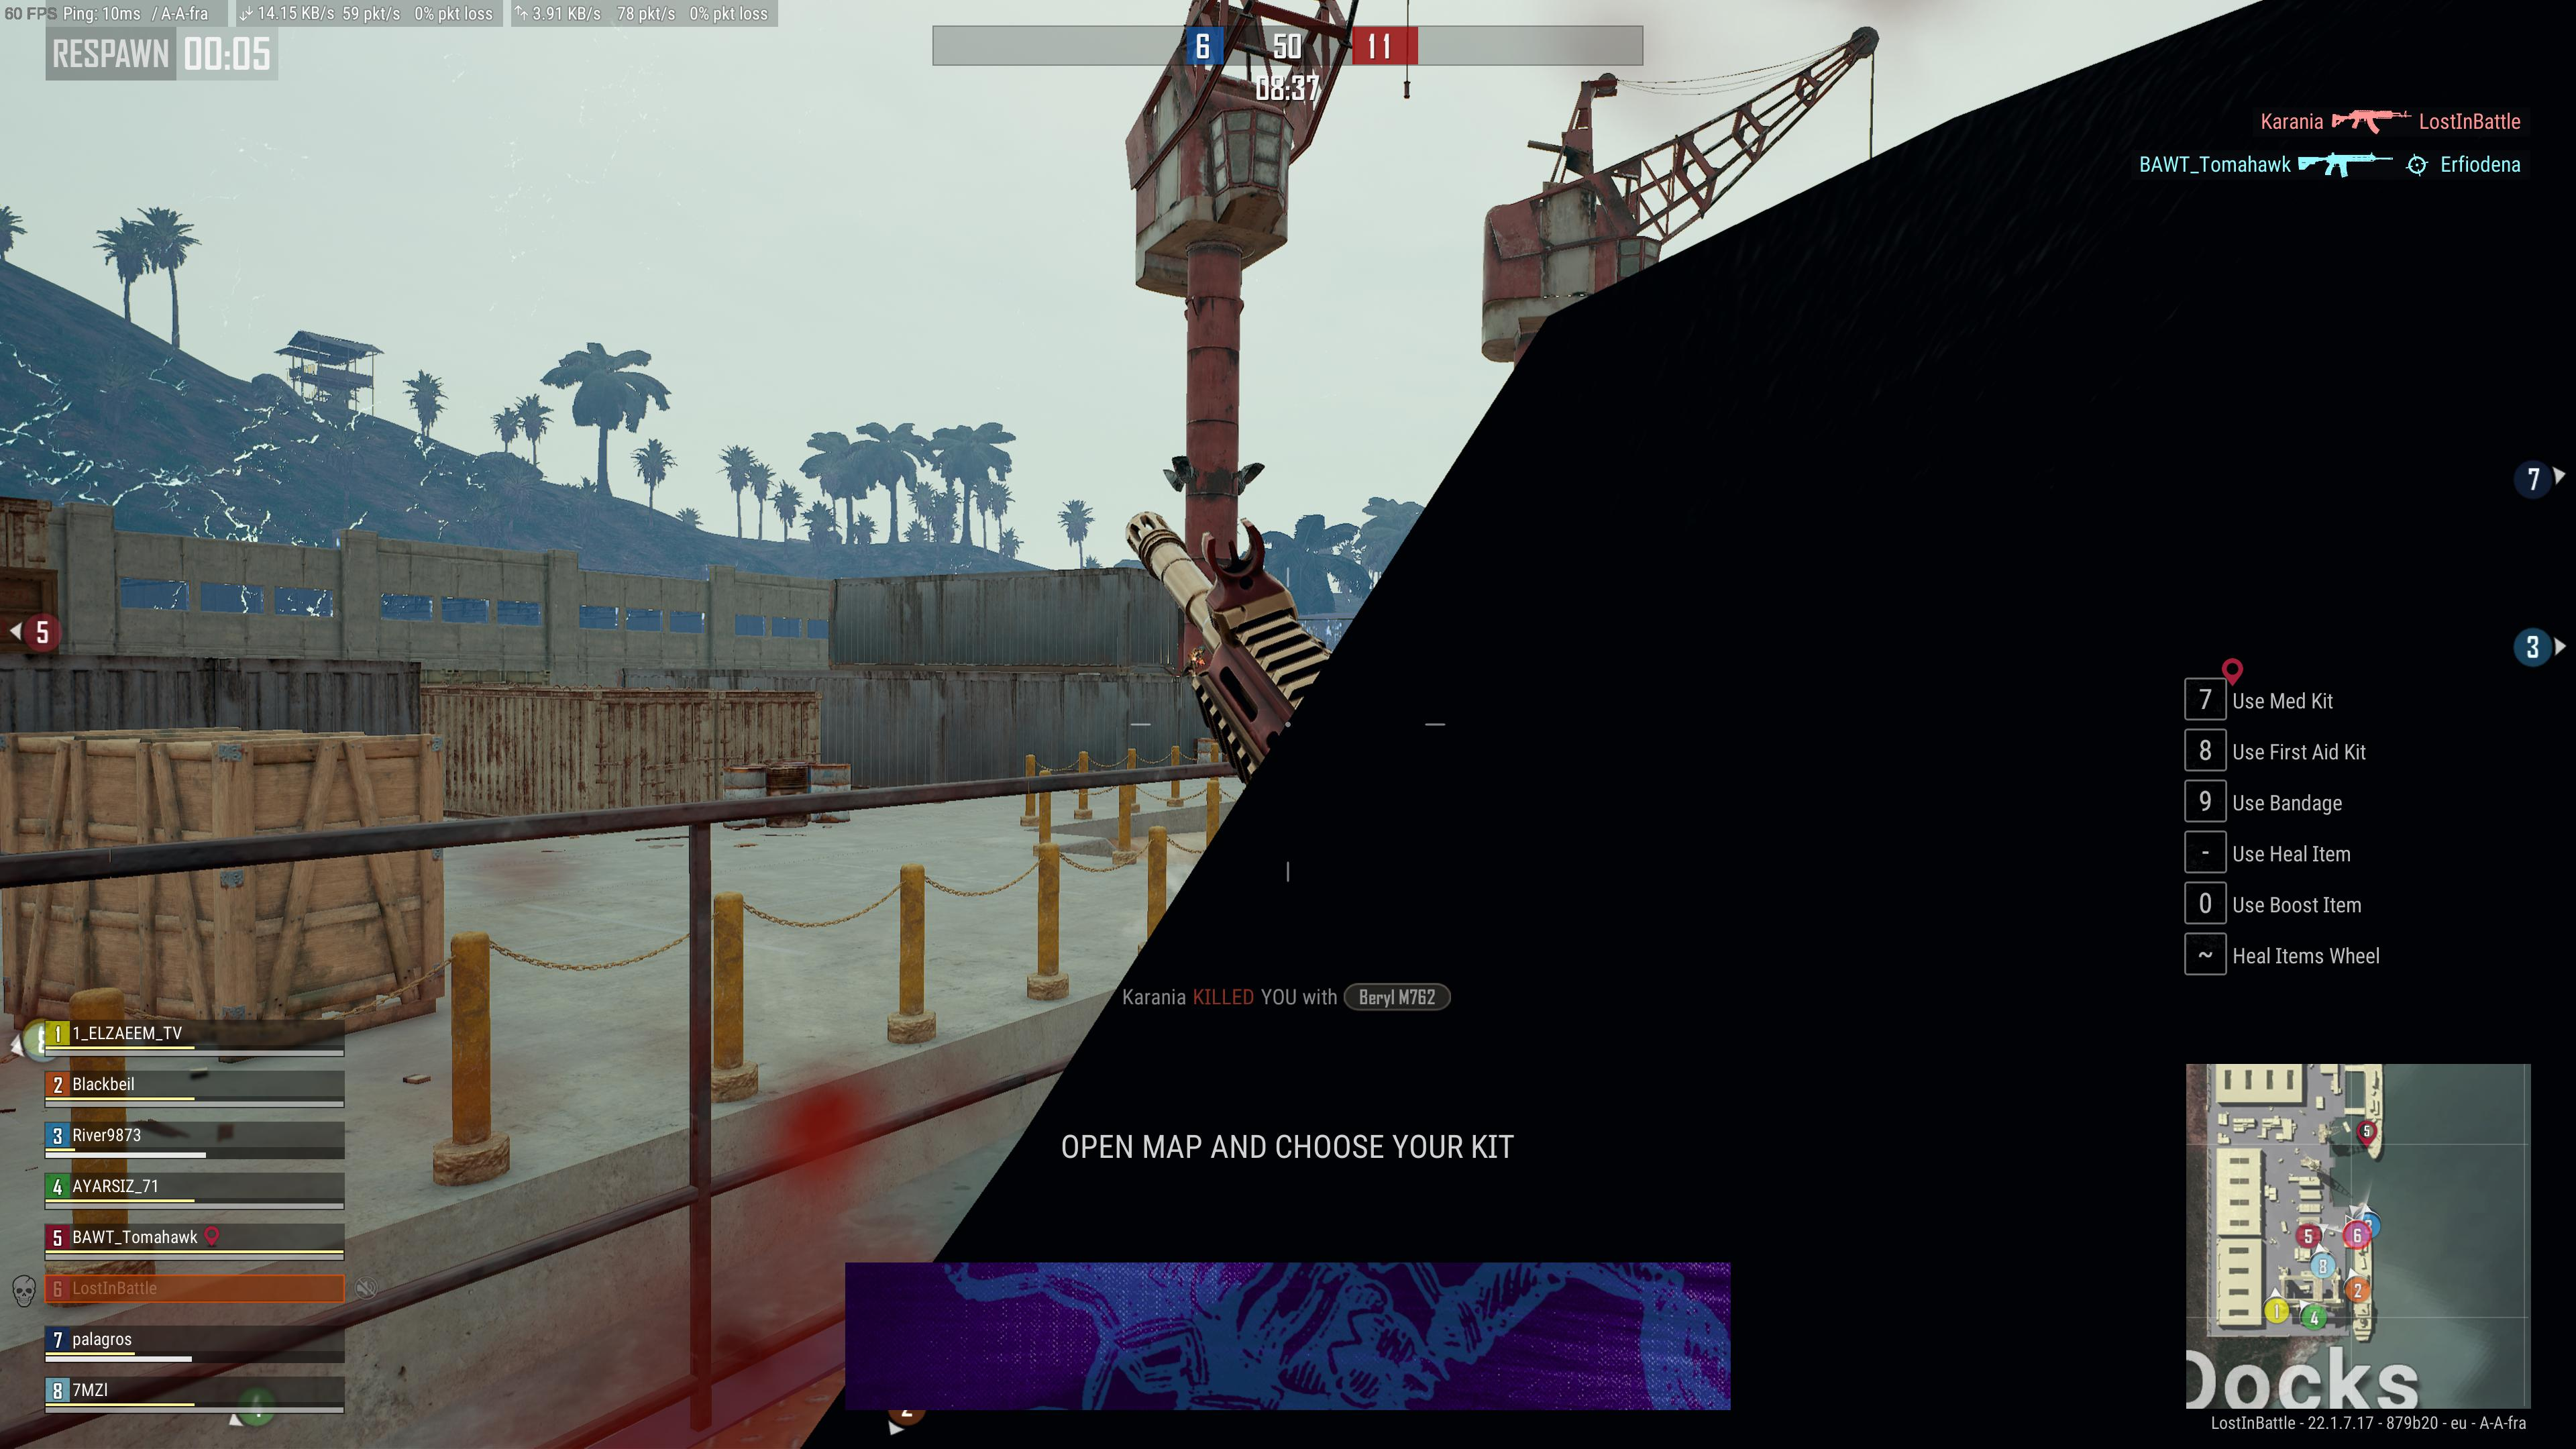enemy: (1180, 644, 1205, 671)
enemy_head: (1196, 644, 1205, 653)
